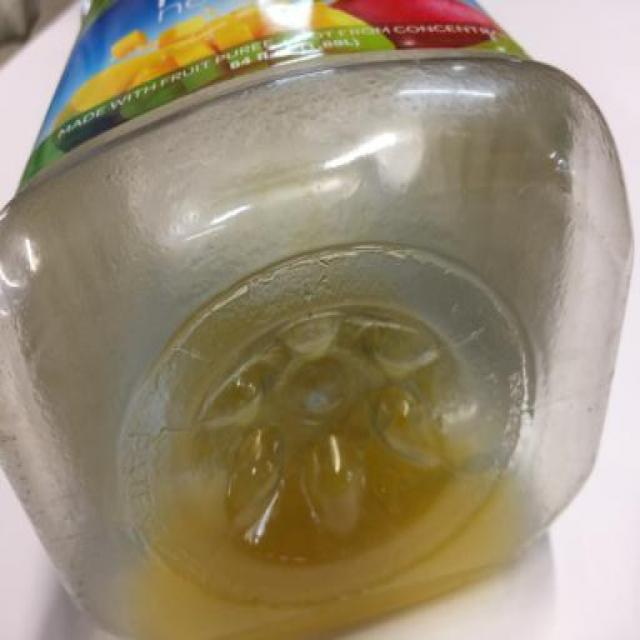plastic_bottle: (1, 1, 640, 640)
